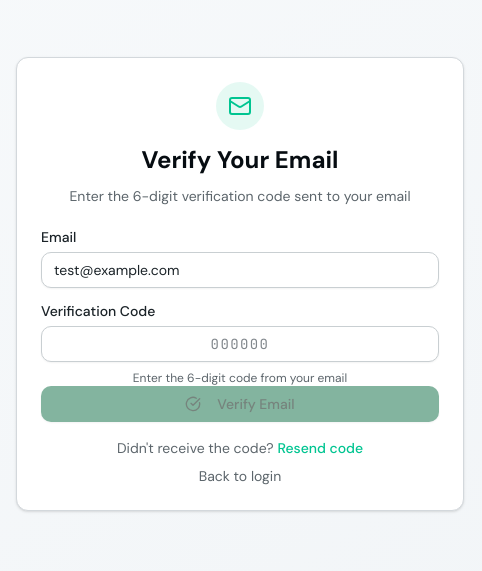
VerifyEmail Page › Error Handling › clears error when user starts typing
Step 1. Type "123456" into the field labelled "Verification Code" → (240, 344), box [41,326,439,362]
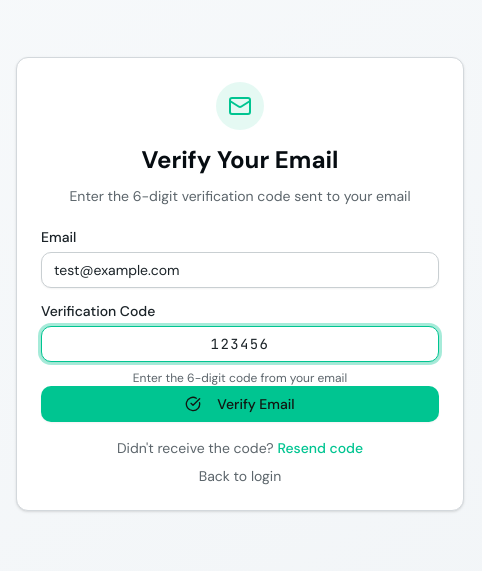
Step 2. Click the button "Verify Email" → (240, 404), box [41,386,439,422]
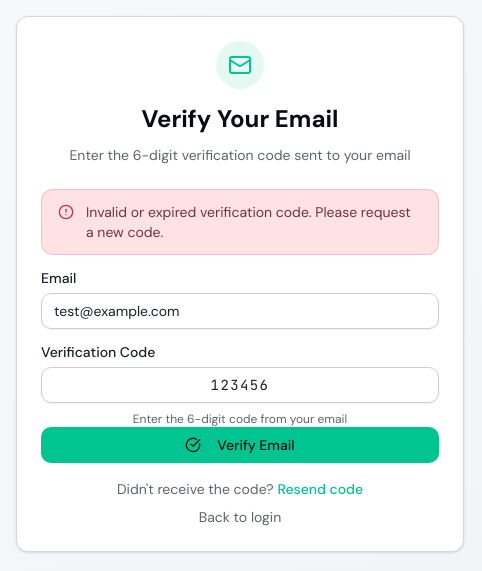
expect the text "Invalid or expired" is shown: met, box [86,203,411,241]
# Type in email field to clear error
Step 3. Type "a" into the field labelled "Email" → (240, 311), box [41,293,439,329]
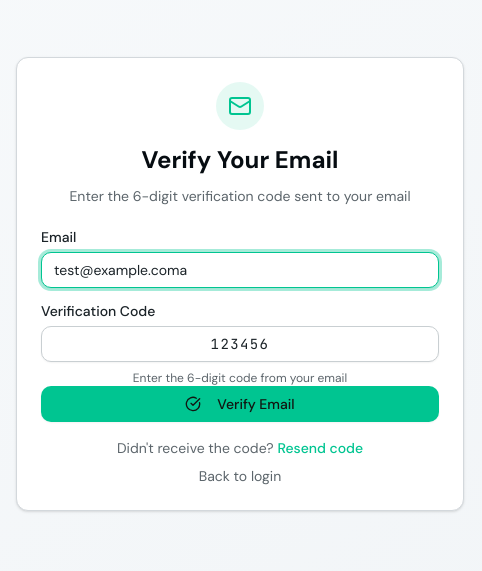
expect the text "Invalid or expired" is gone: met
